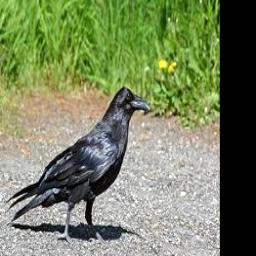Crow: (3, 85, 150, 248)
